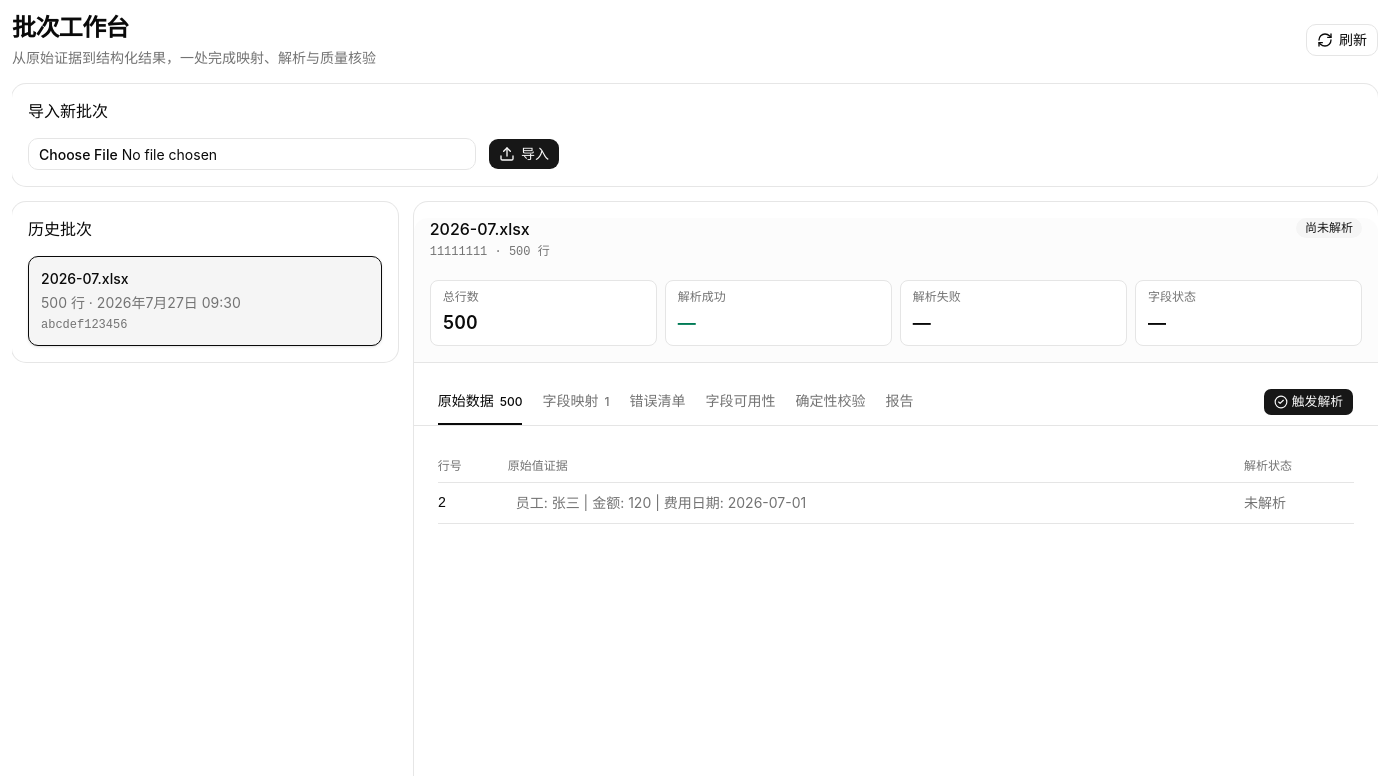
BatchesPage › auditor 只能复用映射，触发解析后刷新结果缓存
The width and height of the screenshot is (1390, 776).
Click the button "2026-07.xlsx": {"x": 205, "y": 301} [28, 256, 382, 346]
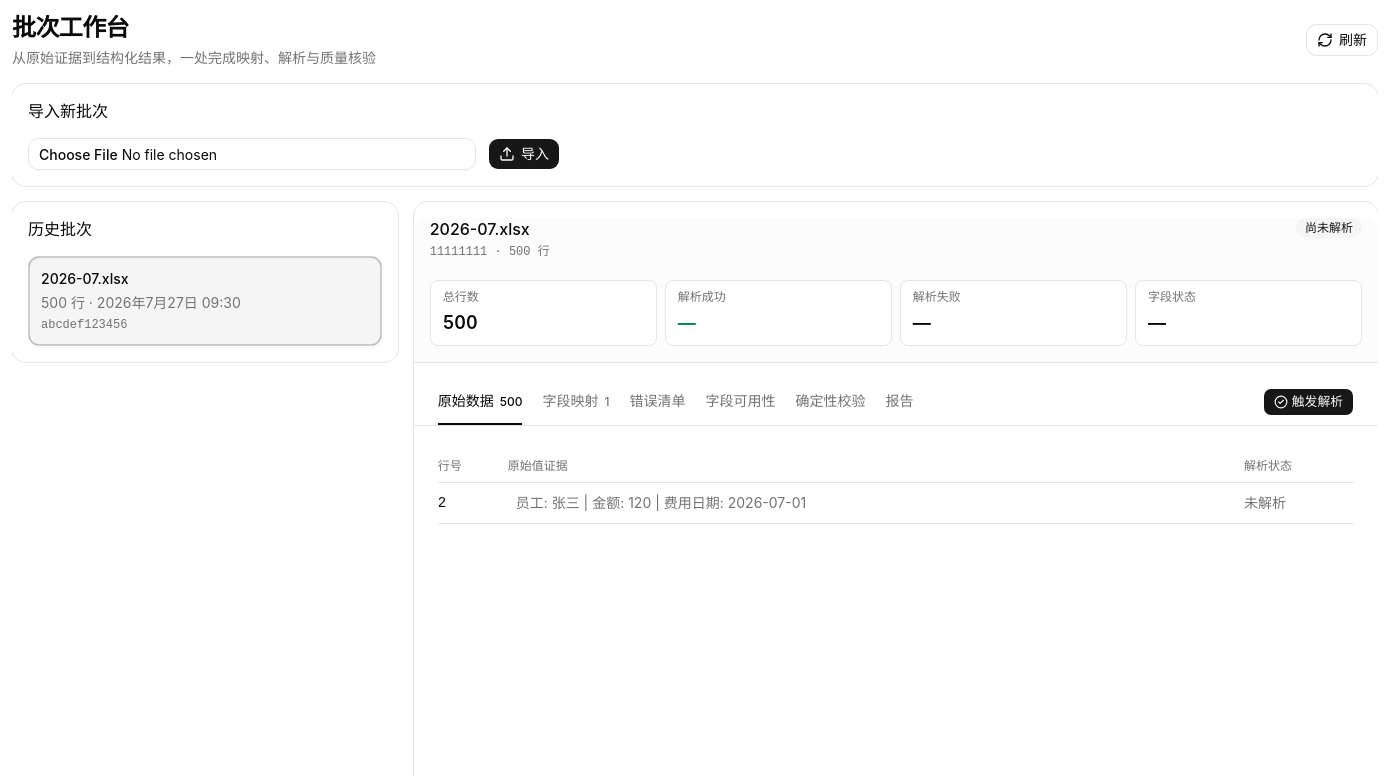
Expected: the text "员工: 张三 | 金额: 120 | 费用日期: 2026-07-01" is shown, [516, 494, 806, 511]
Click the tab "字段映射1": {"x": 576, "y": 402} [542, 379, 609, 425]
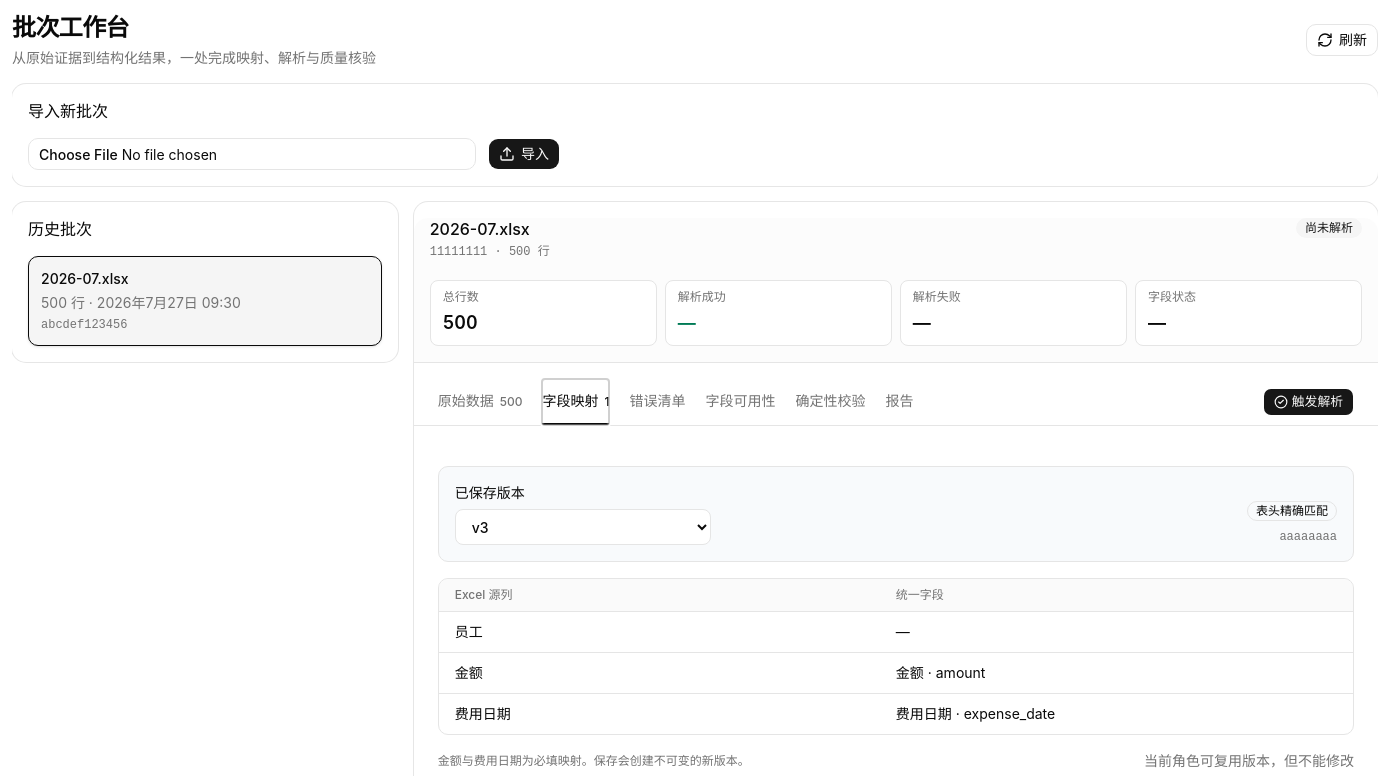
Click the button "触发解析": {"x": 1308, "y": 402} [1263, 388, 1354, 416]
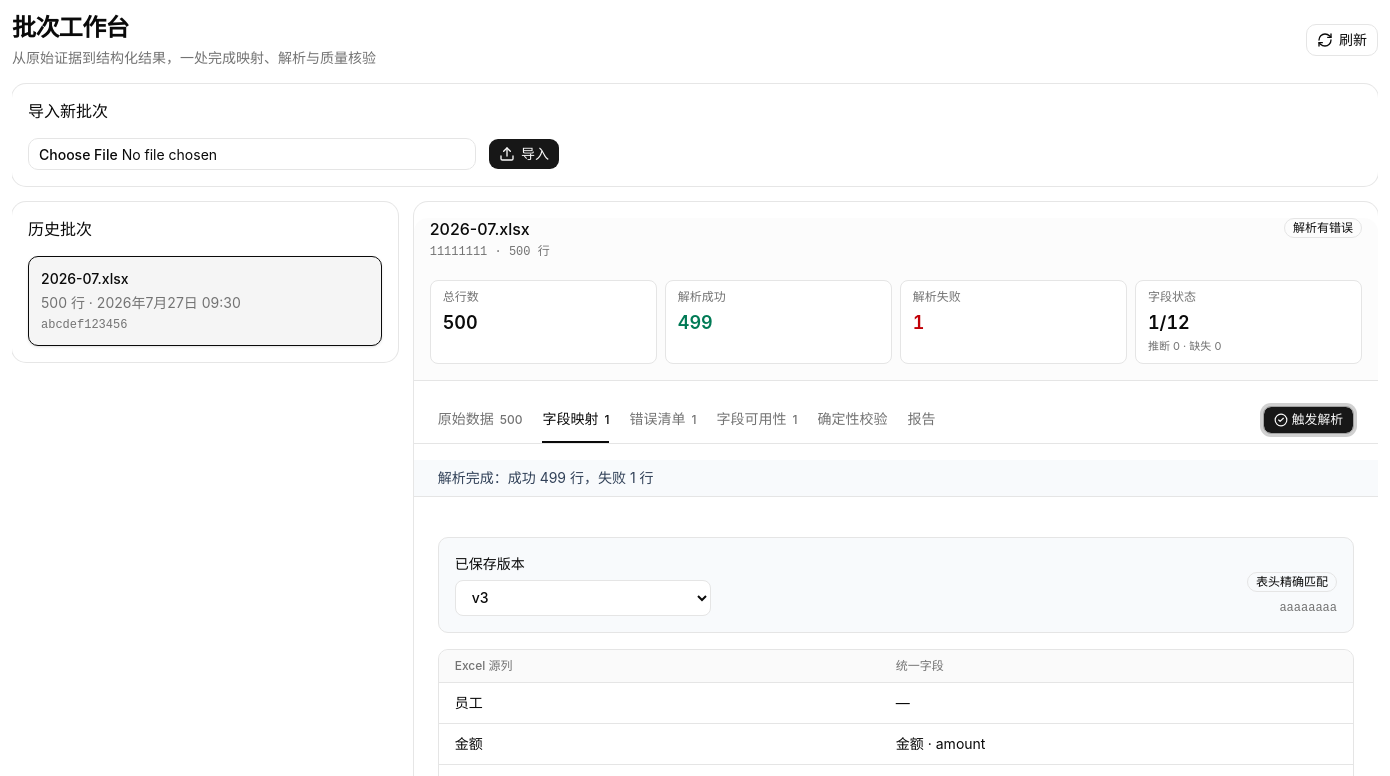
Expected: the message shows "成功 499 行，失败 1 行", [438, 469, 654, 486]
